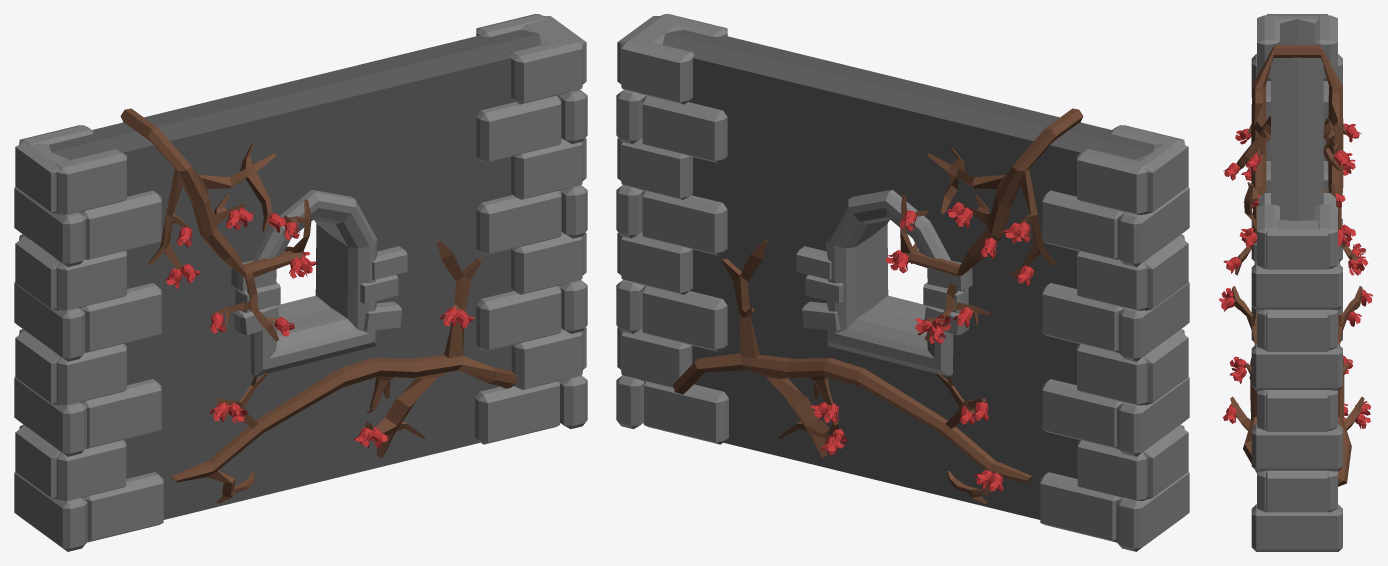
File: DungeonWallWindowFlowers.fbx
3 renders of one model, left to right at view 1: azimuth 30°, elevation 25°; view 2: azimuth 150°, elevation 25°; view 3: azimuth 270°, elevation 25°, orthographic. The views are drawn at different scales.
Parts seen in each view (by area): view 1: DungeonWallWindowFlowers; view 2: DungeonWallWindowFlowers; view 3: DungeonWallWindowFlowers.
Part boxes in pixels (box(x1,y1,x2,y2)): DungeonWallWindowFlowers: box(14, 14, 587, 551); DungeonWallWindowFlowers: box(616, 14, 1189, 551); DungeonWallWindowFlowers: box(1218, 14, 1373, 551).
Bounding box in the file's own units: 520 × 363 × 154.
Materials: 1 (1 with a texture image).
